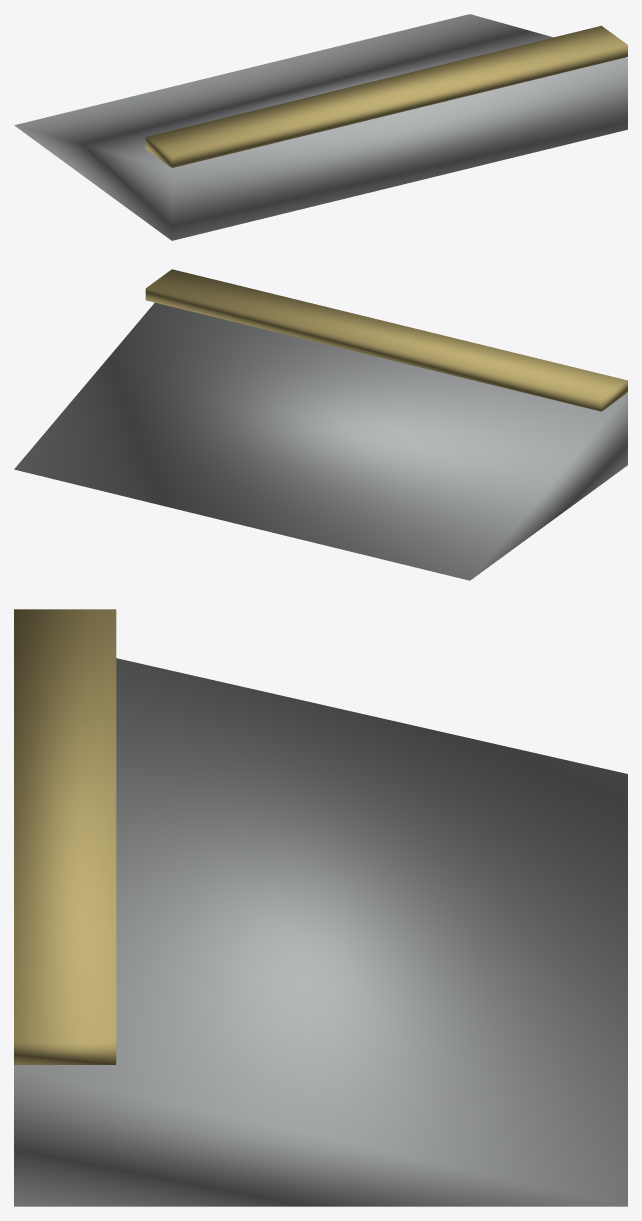
Rendered from curb_ramp_yellow_w100_h15_r60.glb.
3 renders of one model, top to bottom at view 1: azimuth 30°, elevation 25°; view 2: azimuth 150°, elevation 25°; view 3: azimuth 270°, elevation 25°, orthographic. The views are drawn at different scales.
Visible parts, largest first — view 1: world; view 2: world; view 3: world.
Boxes of the visible parts, <box> form: world: <box>14,14,627,240</box>; world: <box>14,269,627,580</box>; world: <box>14,609,627,1206</box>.
Size of the model in its own units: 1 by 0.1775 by 0.6.
